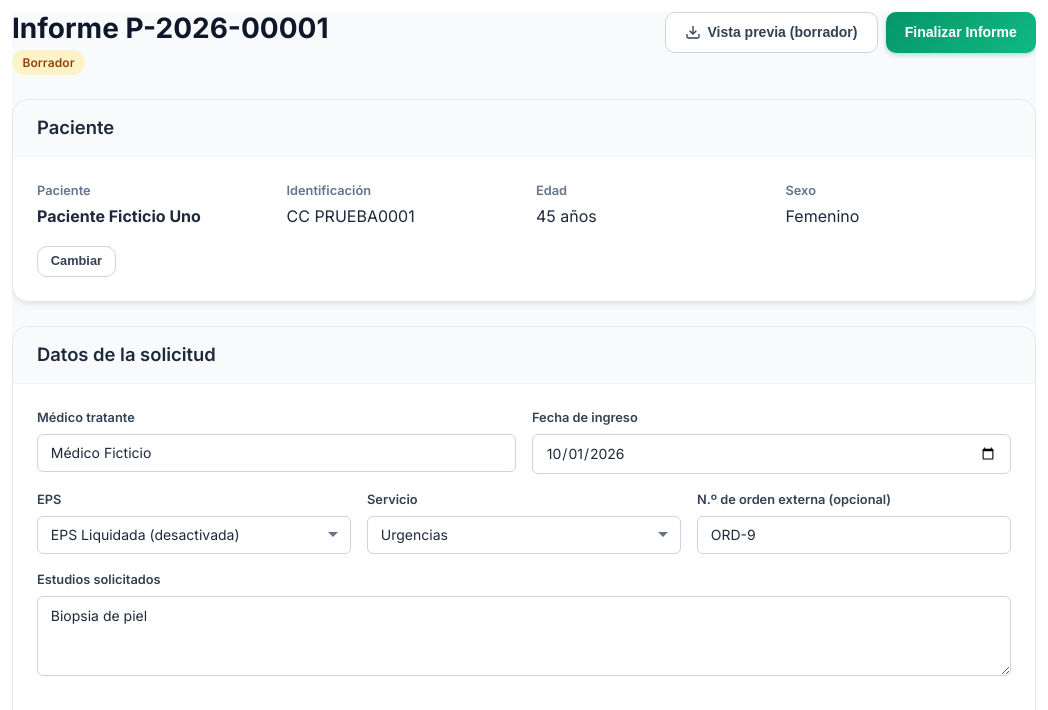
Test case: InformePage: firma y finalización (etapa 6) › si no se puede finalizar, muestra todos los requisitos que faltan
What coordinates should you click on to do the following:
click the button "Finalizar Informe"
I would click on:
 (961, 32)
Its box is [886,12,1036,53].
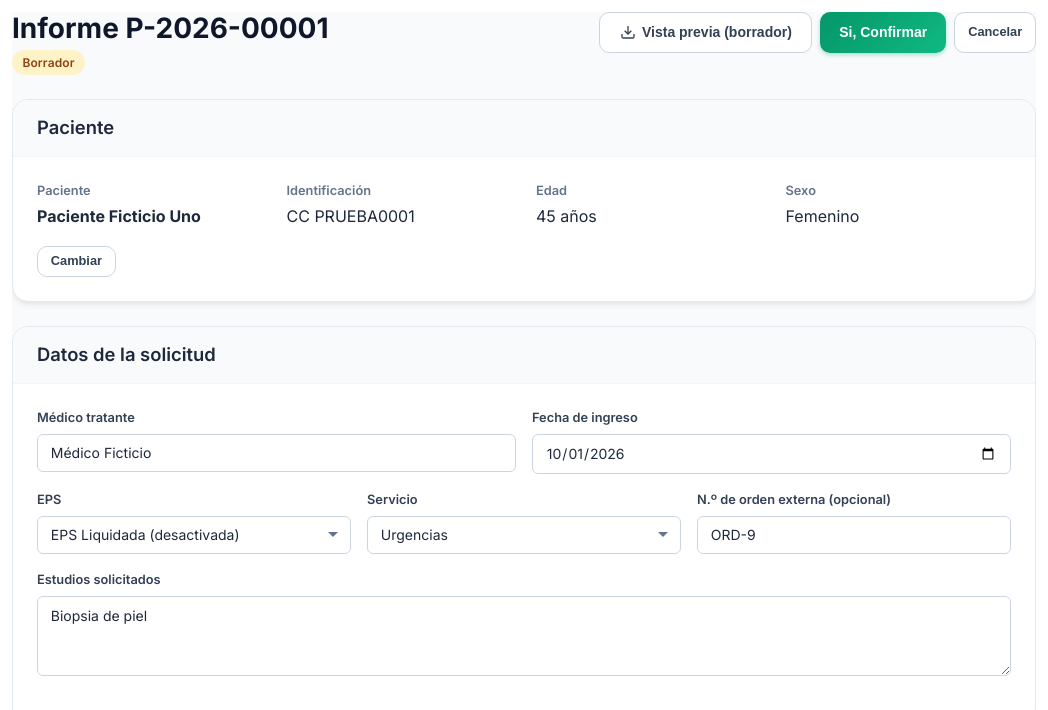
What coordinates should you click on to do the following:
click the button "Si, Confirmar"
I would click on:
 (883, 32)
Its box is [820,12,946,53].
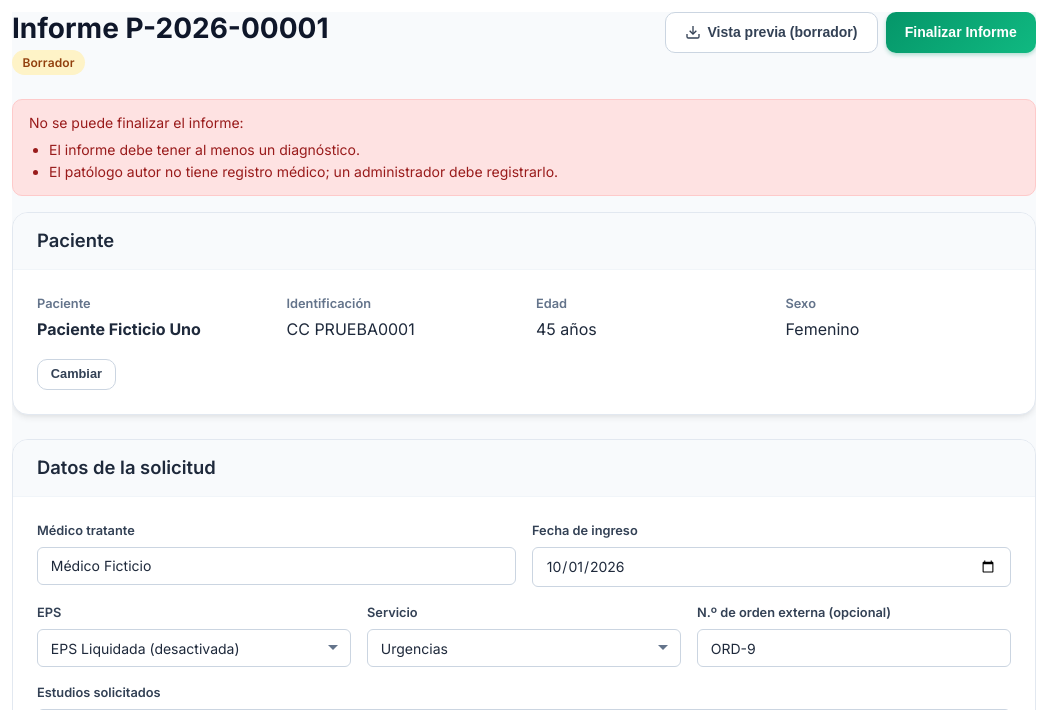
expect the text "No se puede finalizar el informe:" is shown: met, box [29,114,244,131]
expect the list item "El informe debe tener al menos un diagnóstico." is shown: met, box [49,140,360,158]
expect the 2nd list item reads "El patólogo autor no tiene registro médico; un administrador debe registrarlo.": met, box [49,163,558,180]
